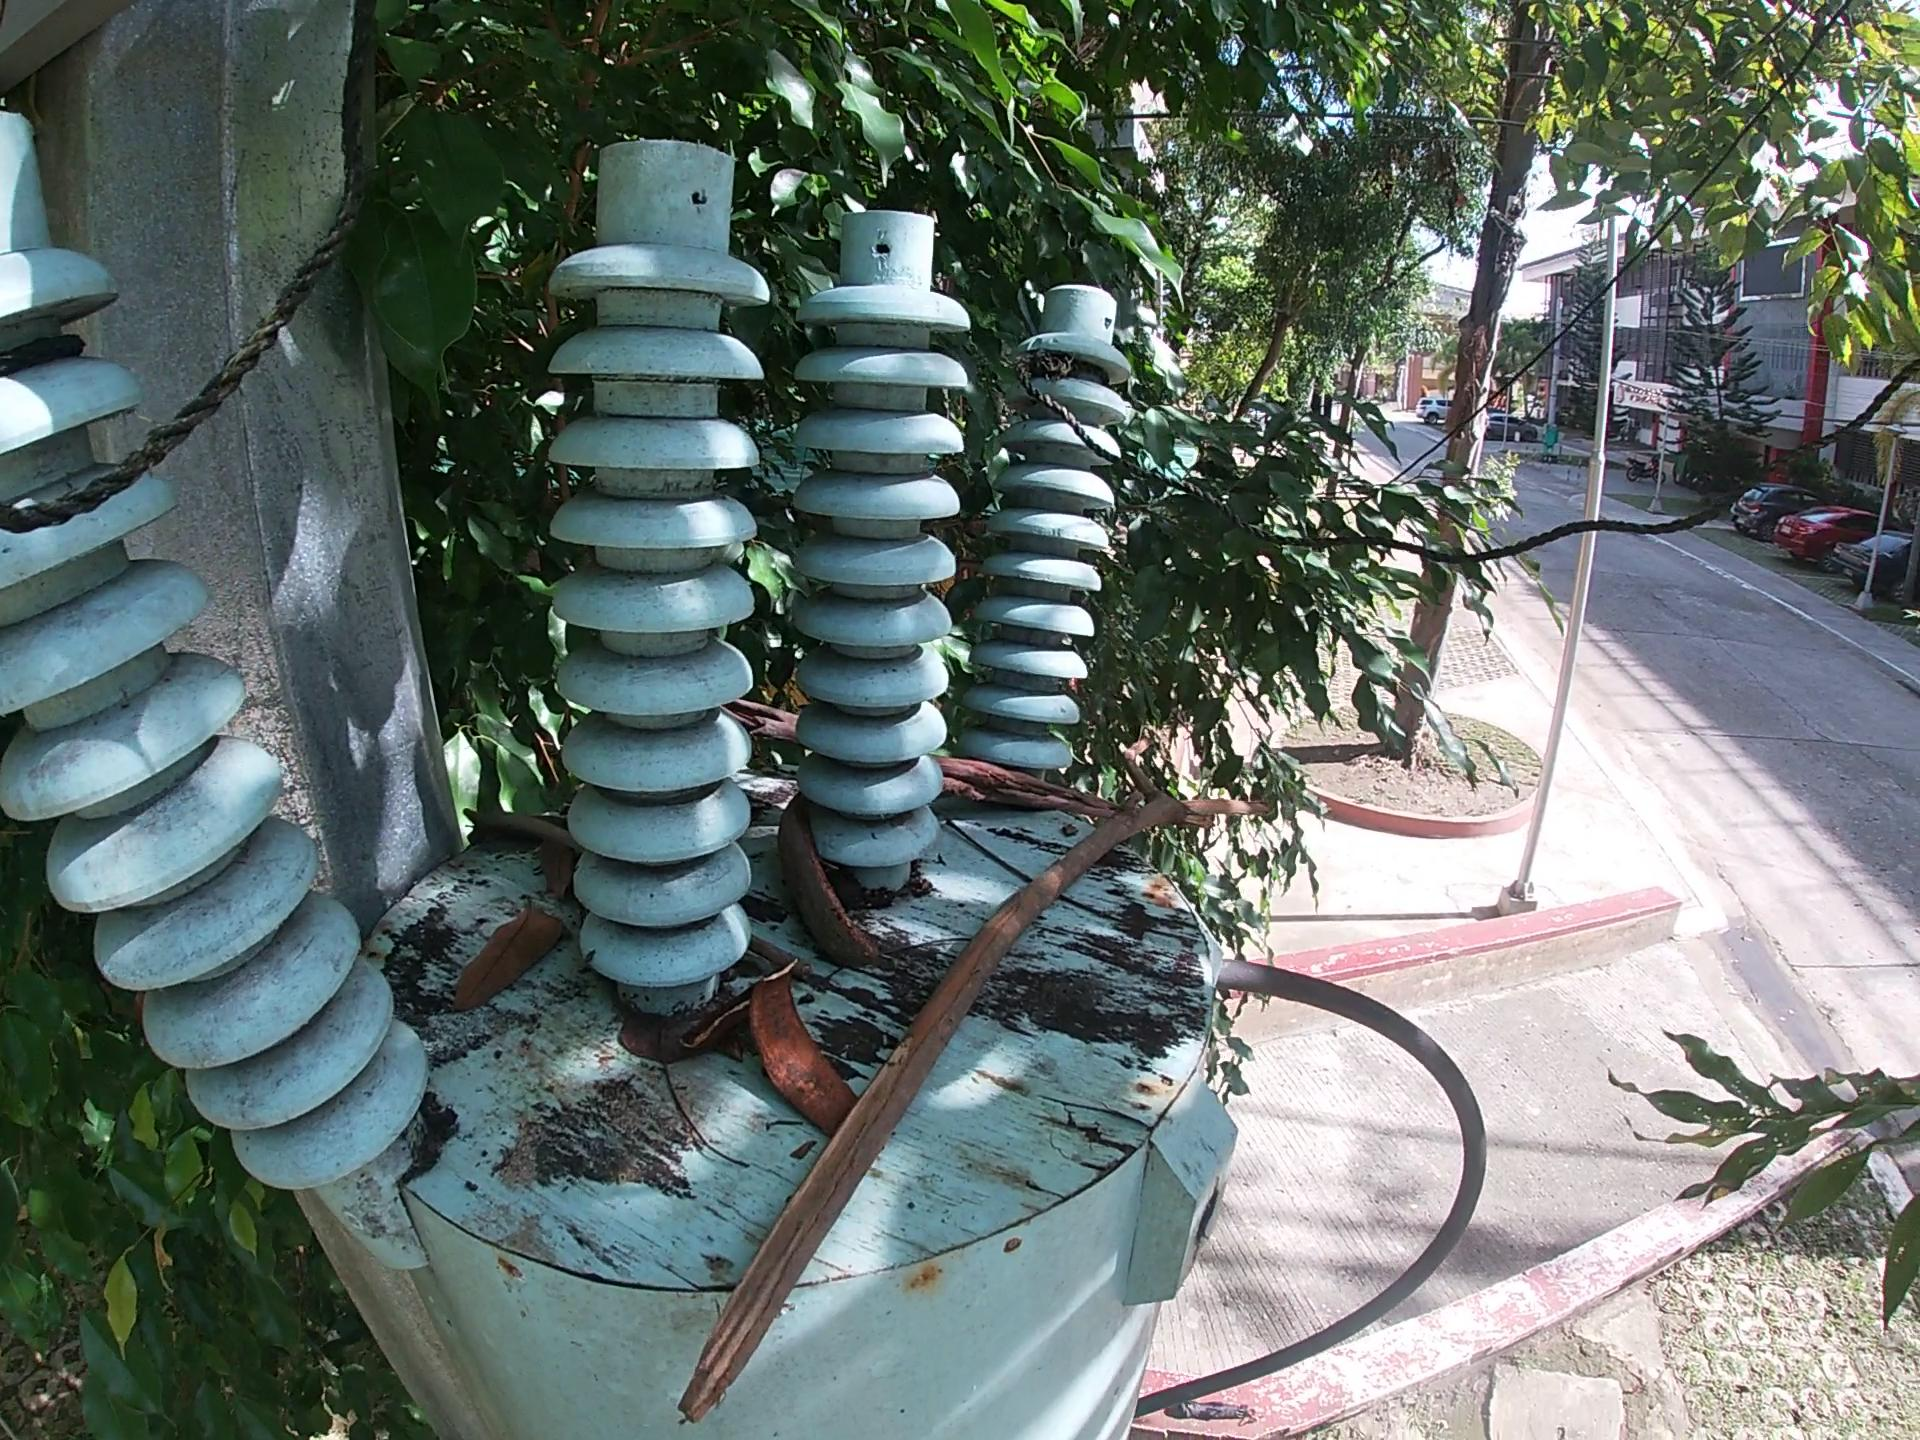leaf: (454, 892, 571, 1018), (612, 1007, 703, 1065), (535, 839, 581, 902)
mahogany fruit: (741, 959, 862, 1141), (773, 790, 884, 973)
tree branch: (664, 729, 1293, 1435), (714, 694, 1135, 818), (458, 799, 585, 852), (745, 935, 819, 982)
